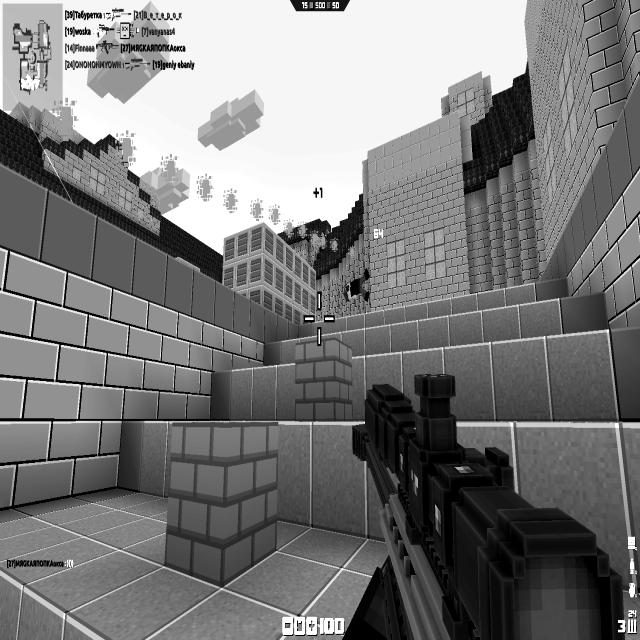Head: (344, 282, 353, 300)
Player: (344, 267, 371, 302)
